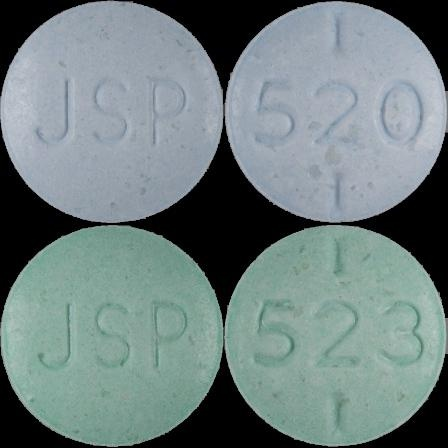51138-047: (0, 0, 224, 224)
